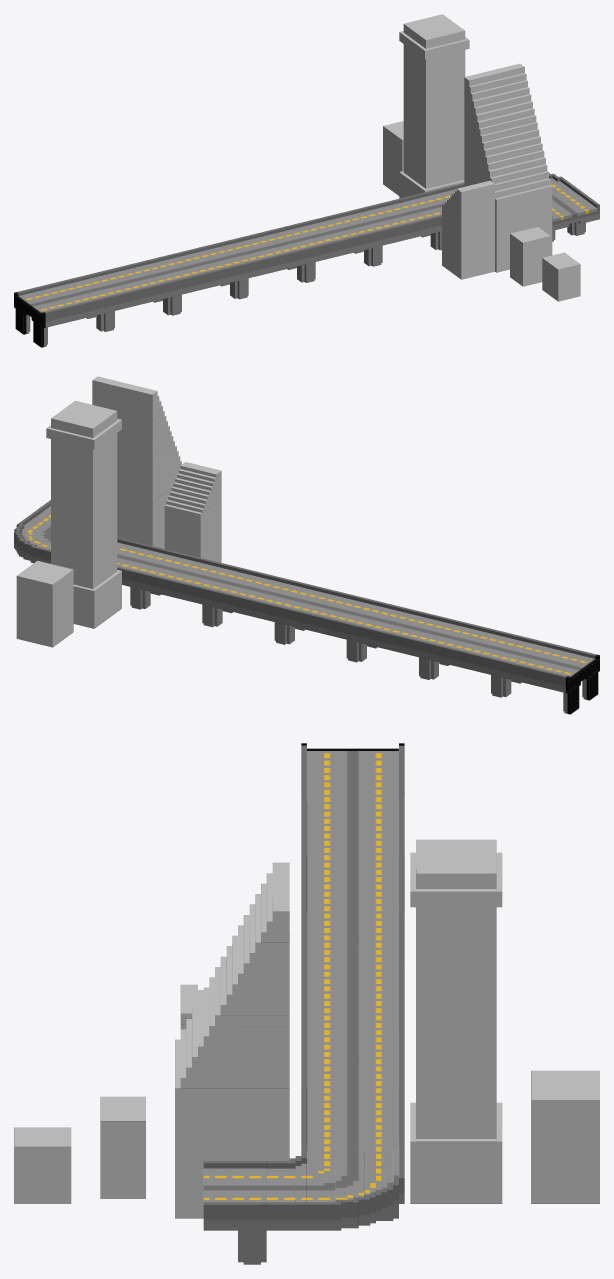
File: robo_obstacle_viaduct.fbx
The picture shows the model from 3 angles, top to bottom: view 1: azimuth 30°, elevation 25°; view 2: azimuth 150°, elevation 25°; view 3: azimuth 270°, elevation 25°; orthographic projection. The views are drawn at different scales.
Parts seen in each view (by area): view 1: Box, Box_2, Box_1, Matrix, Matrix_6, Matrix_1, Matrix_2, Matrix_8, Matrix_7, Box_4, Box_5, Matrix_5 (+3 smaller); view 2: Box_2, Box, Box_1, Box_3, Matrix, Matrix_8, Matrix_1, Matrix_6, Matrix_7, Matrix_2, Matrix_3, Matrix_4; view 3: Box_2, Box, Matrix_4, Box_3, Matrix_1, Matrix_2, Matrix_3, Matrix_6, Matrix_7, Matrix_8, Matrix, Matrix_5 (+3 smaller).
Boxes of the visible parts, x1,y1,x2,y2 form: Box: (464,63,552,272); Box_2: (399,14,469,198); Box_1: (442,180,494,279); Matrix: (14,278,104,347); Matrix_6: (75,261,171,331); Matrix_1: (276,212,371,282); Matrix_2: (343,196,438,266); Matrix_8: (209,229,304,299); Matrix_7: (142,245,237,315); Box_4: (510,227,550,286); Box_5: (542,252,580,301); Matrix_5: (552,192,599,241); Box_2: (46,400,121,628); Box: (92,376,181,548); Box_1: (164,462,221,562); Box_3: (16,560,73,647); Matrix: (502,639,599,714); Matrix_8: (286,586,388,662); Matrix_1: (214,568,316,644); Matrix_6: (430,621,533,697); Matrix_7: (358,604,461,679); Matrix_2: (142,551,244,627); Matrix_3: (117,537,172,609); Matrix_4: (14,508,50,563); Box_2: (410,839,502,1203); Box: (175,862,289,1218); Matrix_4: (266,1146,404,1230); Box_3: (531,1070,599,1203); Matrix_1: (301,971,404,1034); Matrix_2: (301,1029,404,1093); Matrix_3: (301,1088,404,1151); Matrix_6: (301,796,404,860); Matrix_7: (301,855,404,918); Matrix_8: (301,913,404,976); Matrix: (301,743,404,801); Matrix_5: (203,1161,266,1264).
Bounding box in the file's own units: 190 × 63 × 102.
